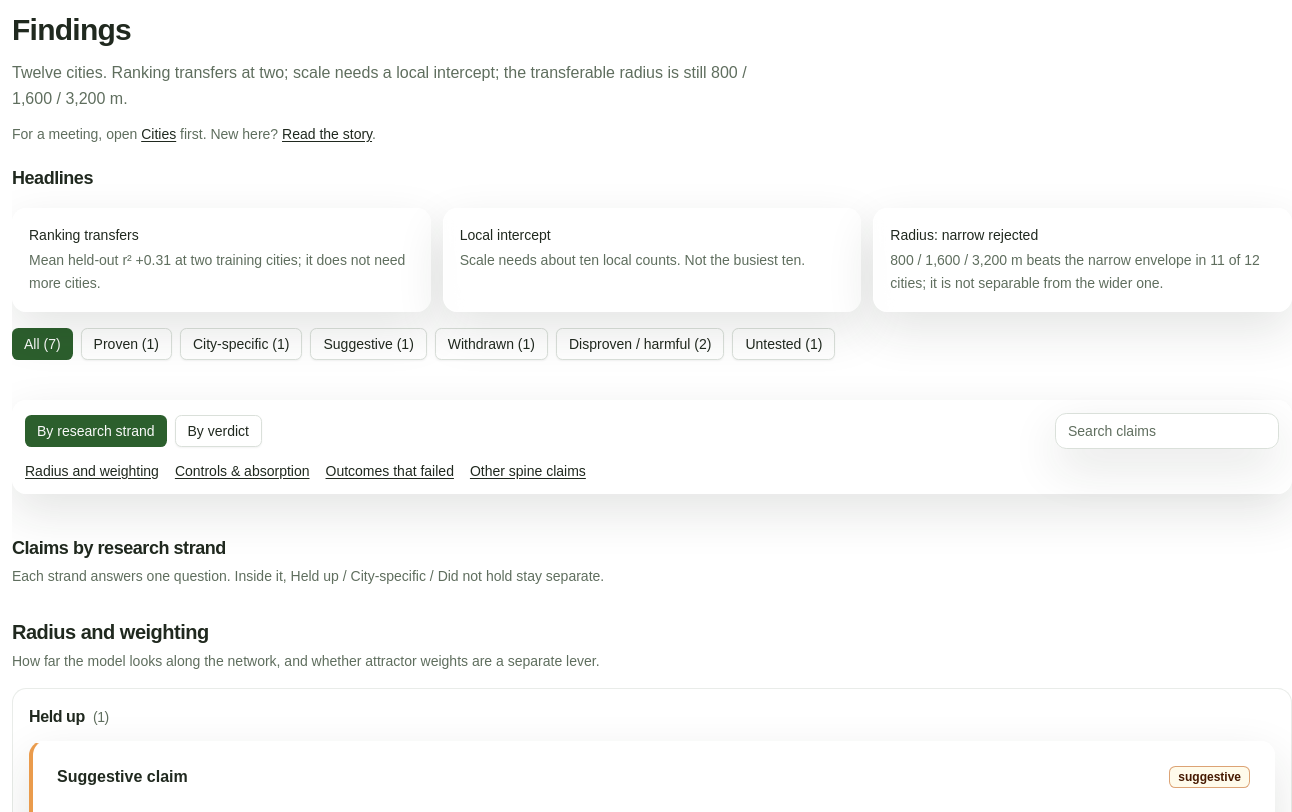
Test: ScoreboardView › can switch to by-verdict view with strand tags
Click the button "By verdict".
click(218, 430)  # box [174,414,262,446]
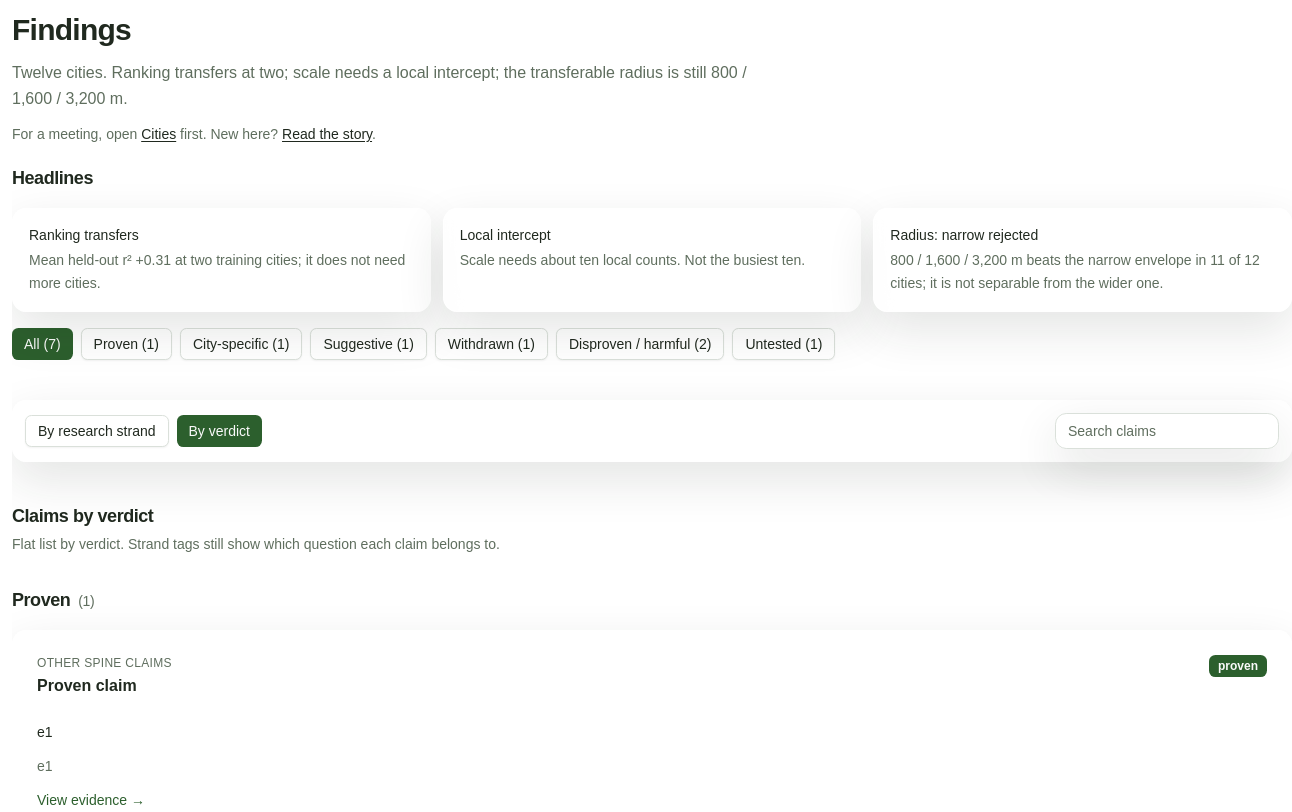
Result: the text "Other spine claims" is shown at [37,654,172,670]
